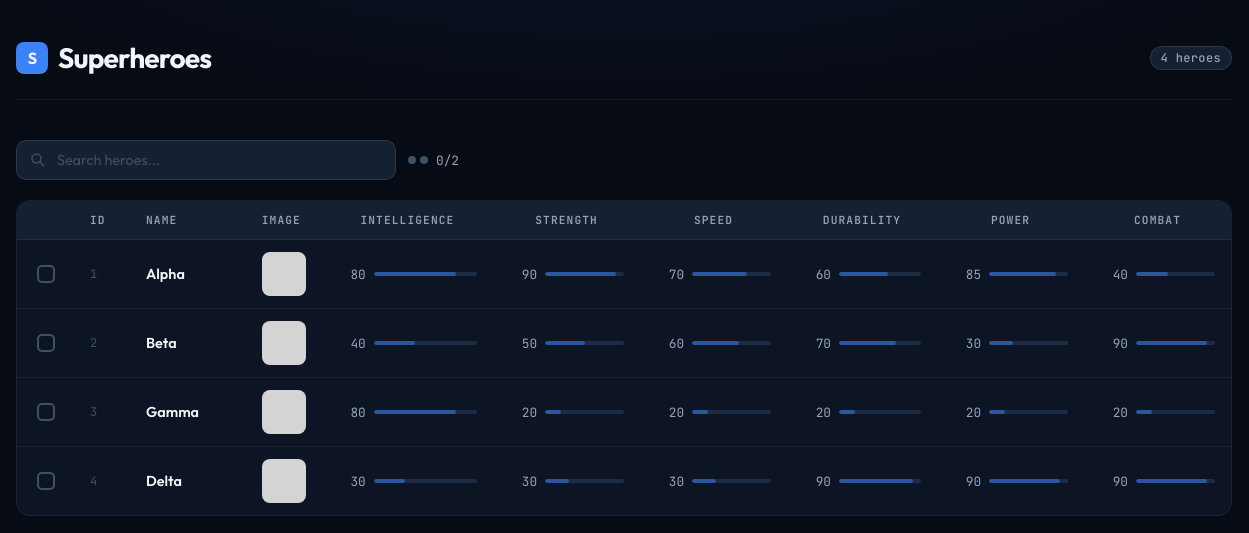
Test: Compare button visibility › appears when exactly 2 heroes are selected
This screenshot has width=1249, height=533.
Click the checkbox in the row of "Alpha": point(46, 274) [37,265,55,283]
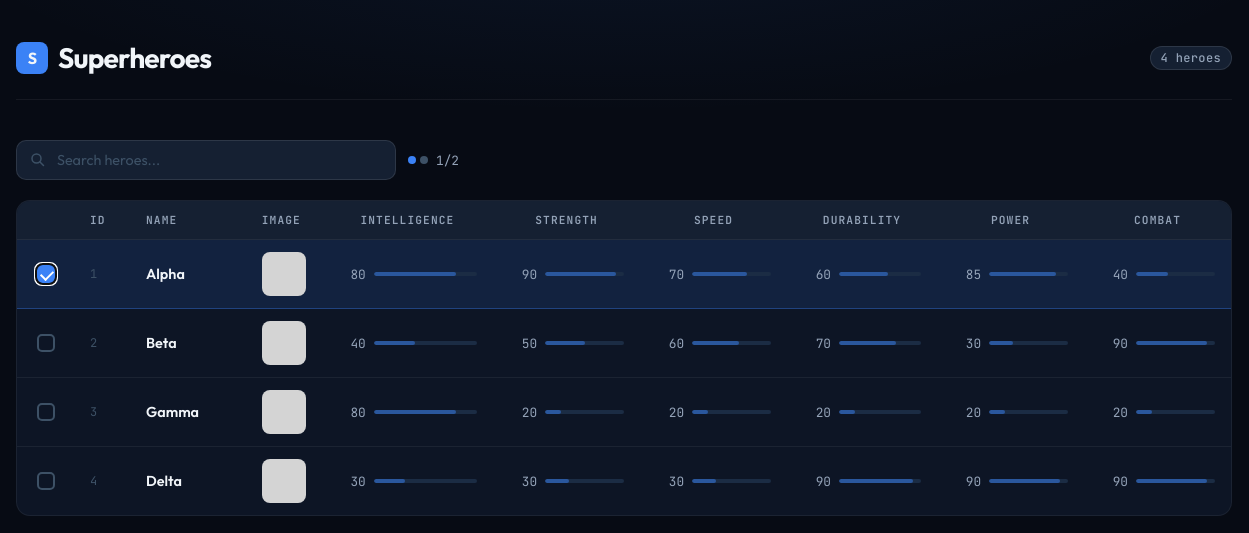
Click the checkbox in the row of "Beta": point(46, 343) [37,334,55,352]
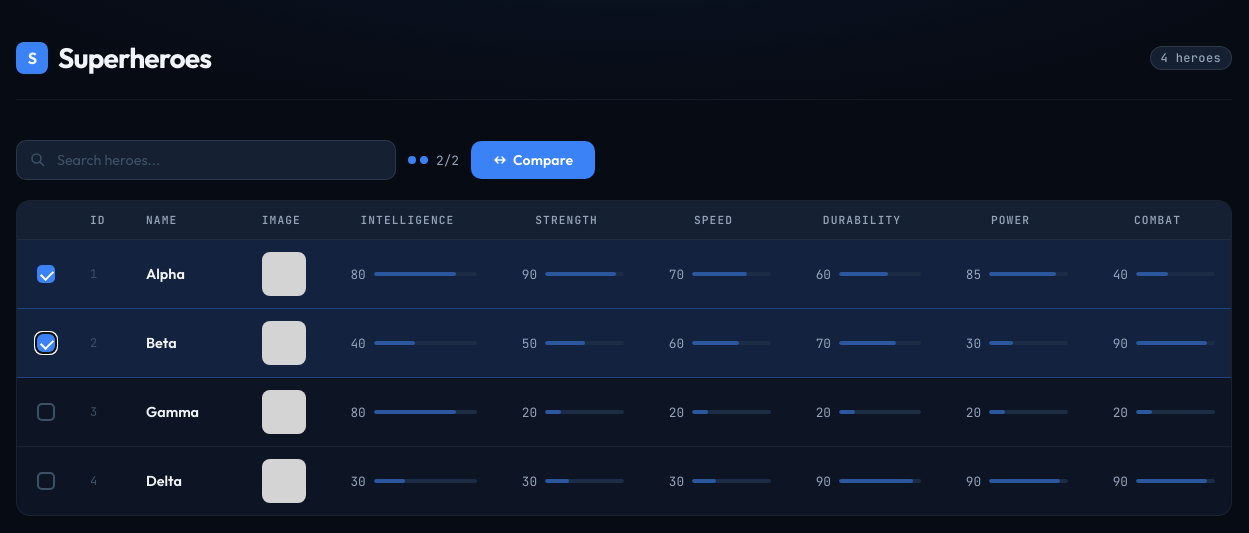
Result: the button "Compare" is shown at [471,141,595,179]
